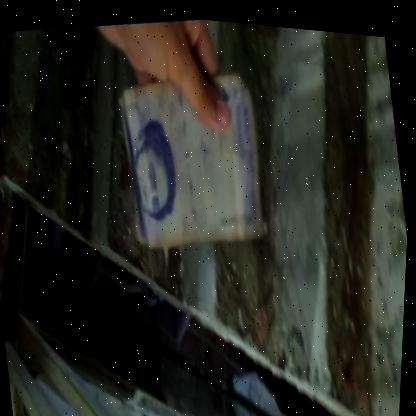ten-front-vef: (109, 57, 273, 255)
